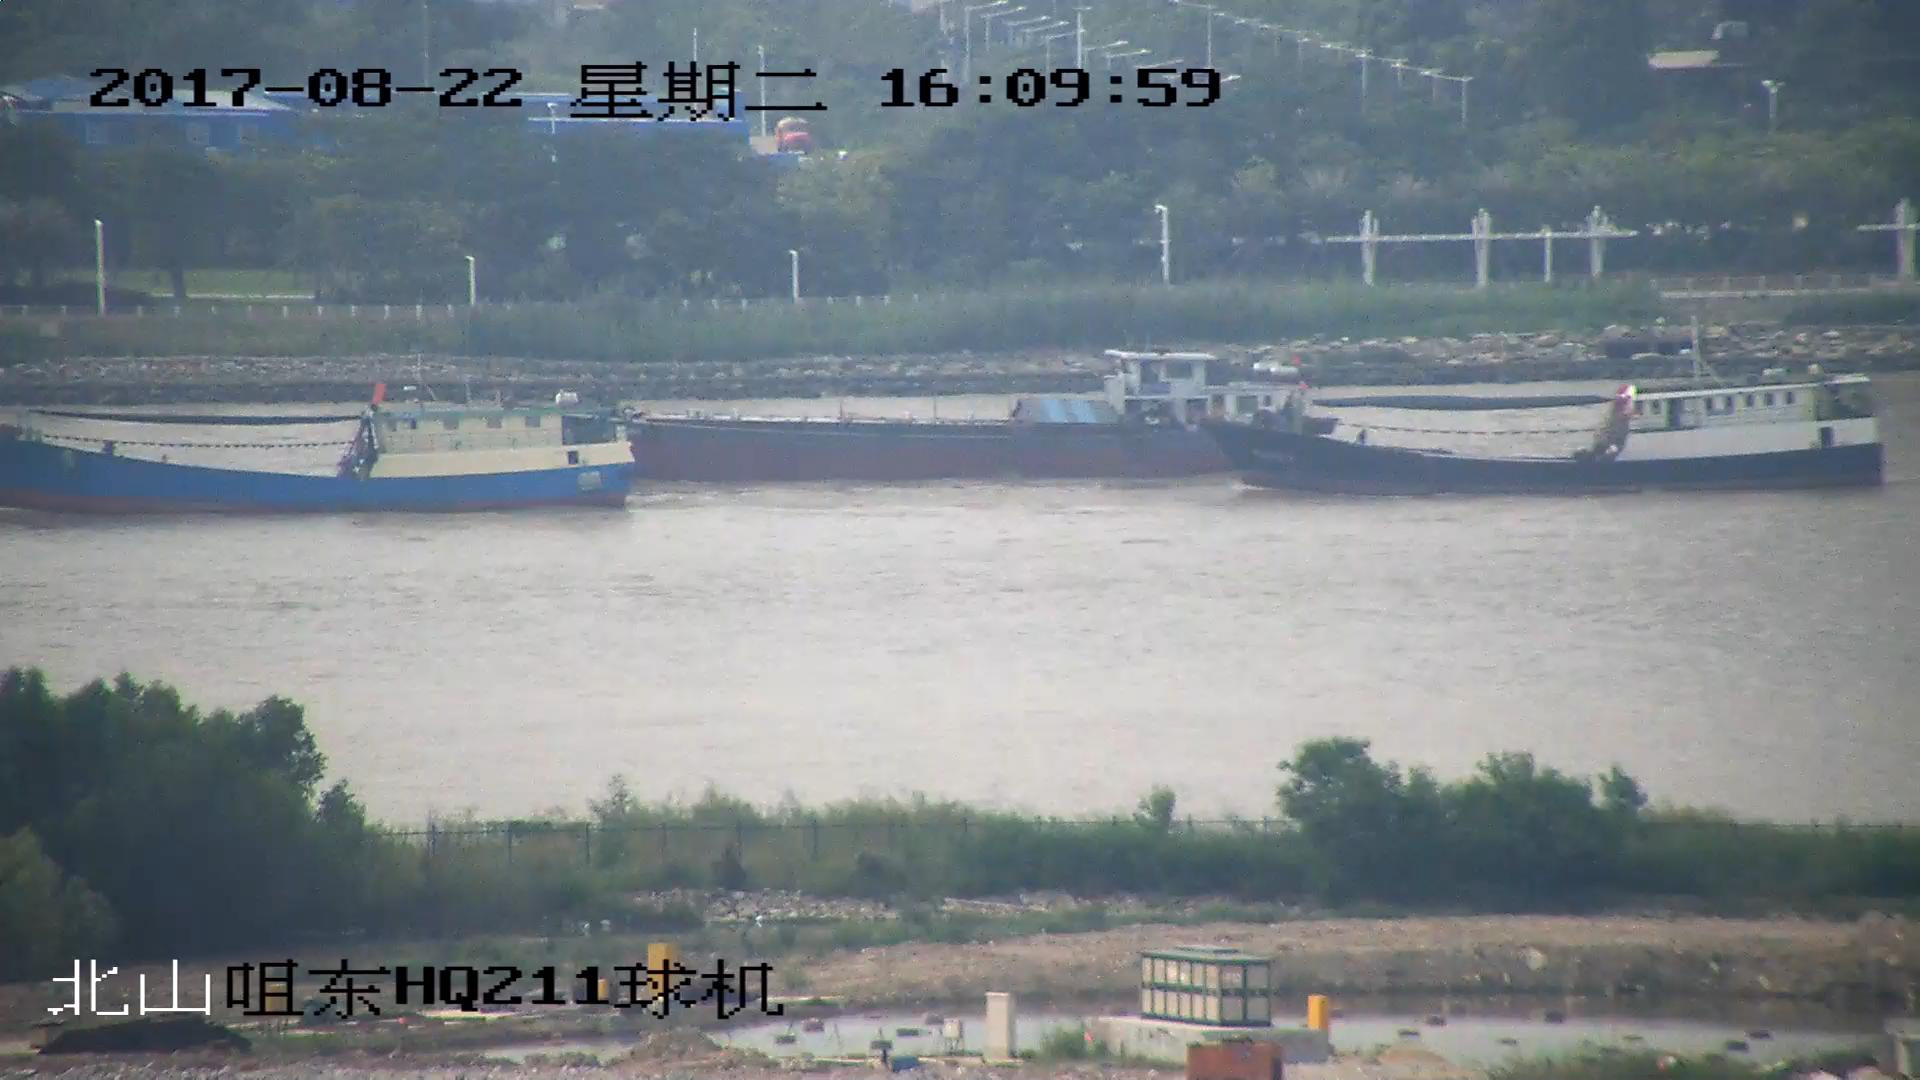bulk cargo carrier: (567, 358, 1335, 486)
fishing boat: (1210, 342, 1884, 495), (1, 390, 636, 513)
